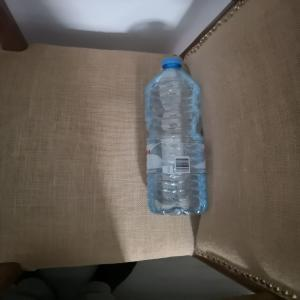Plastic-bottle: (146, 58, 210, 219)
